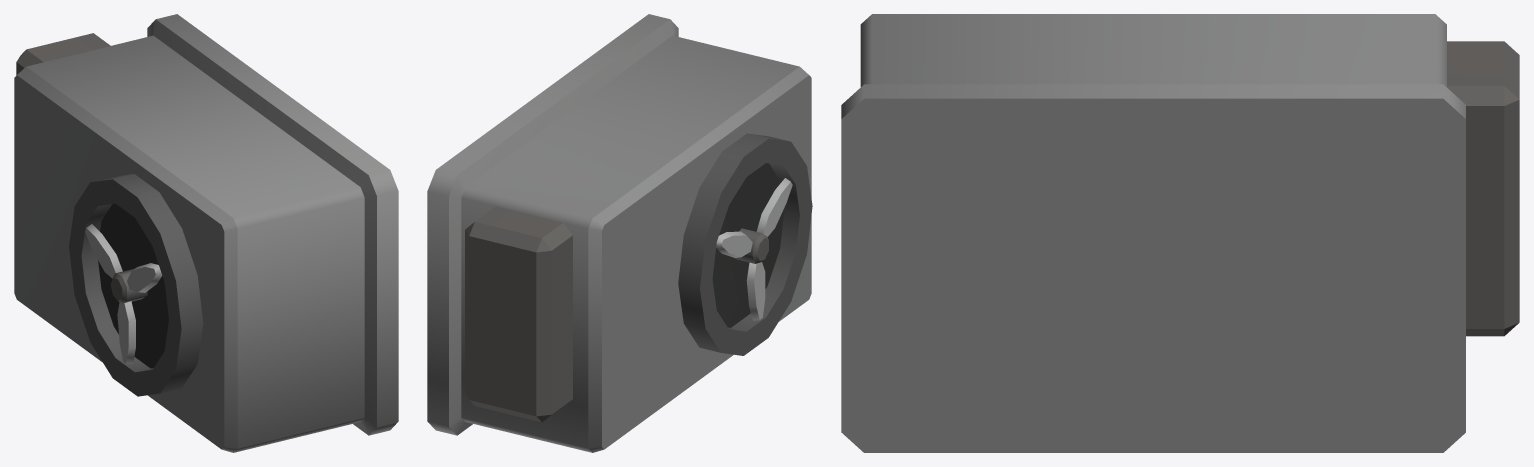
Rendered from VENTS_1_B.gltf.
The picture shows the model from 3 angles, left to right: view 1: azimuth 30°, elevation 25°; view 2: azimuth 150°, elevation 25°; view 3: azimuth 270°, elevation 25°; orthographic projection. The views are drawn at different scales.
Visible parts, largest first — view 1: VENTS_1_B, VENTS_1p_B; view 2: VENTS_1_B, VENTS_1p_B; view 3: VENTS_1_B.
Part boxes in pixels (x1,y1,x2,y2): VENTS_1_B: [14, 14, 398, 452]; VENTS_1p_B: [85, 224, 162, 364]; VENTS_1_B: [427, 14, 812, 452]; VENTS_1p_B: [716, 178, 792, 320]; VENTS_1_B: [841, 14, 1519, 452].
Size of the model in its own units: 0.5235 by 0.6712 by 1.16.
Materials: 2 (2 with a texture image).
